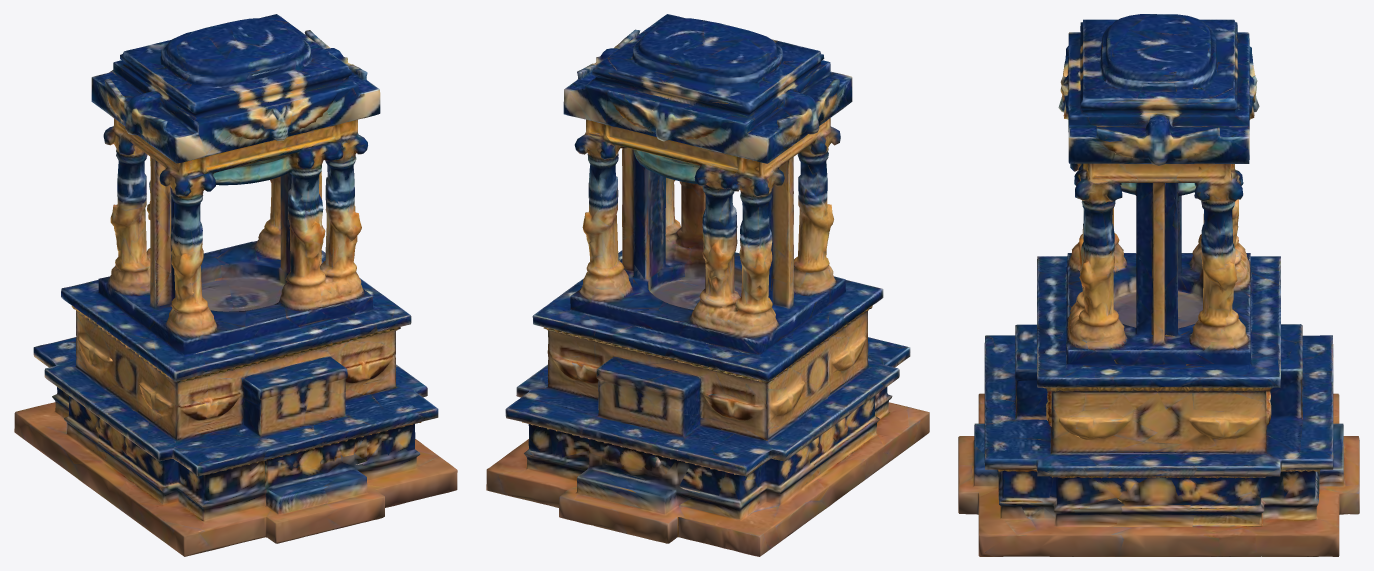
Rendered from babylon_altar.glb.
3 renders of one model, left to right at view 1: azimuth 30°, elevation 25°; view 2: azimuth 150°, elevation 25°; view 3: azimuth 270°, elevation 25°, orthographic. The views are drawn at different scales.
Bounding box in the file's own units: 1.31 × 1.91 × 1.57.
1 material, 1 textured.
